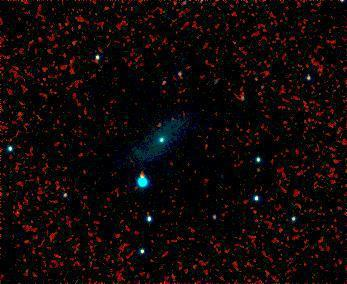star: (148, 109, 178, 139)
